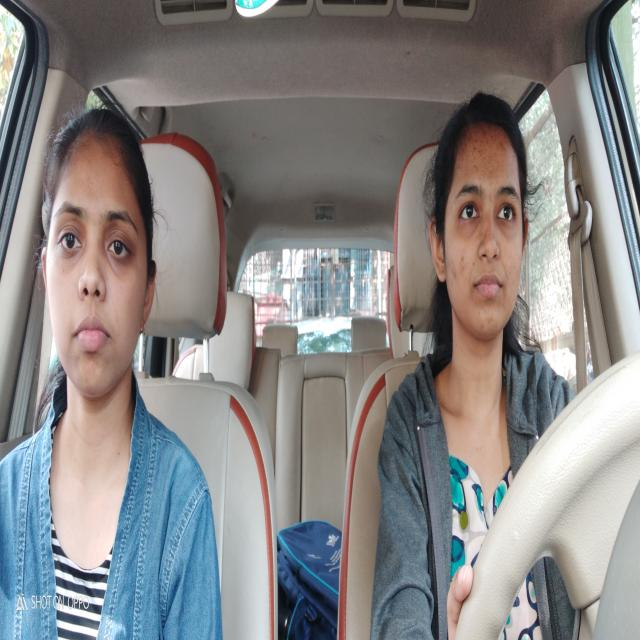person: (41, 121, 158, 383), (431, 100, 527, 343)
